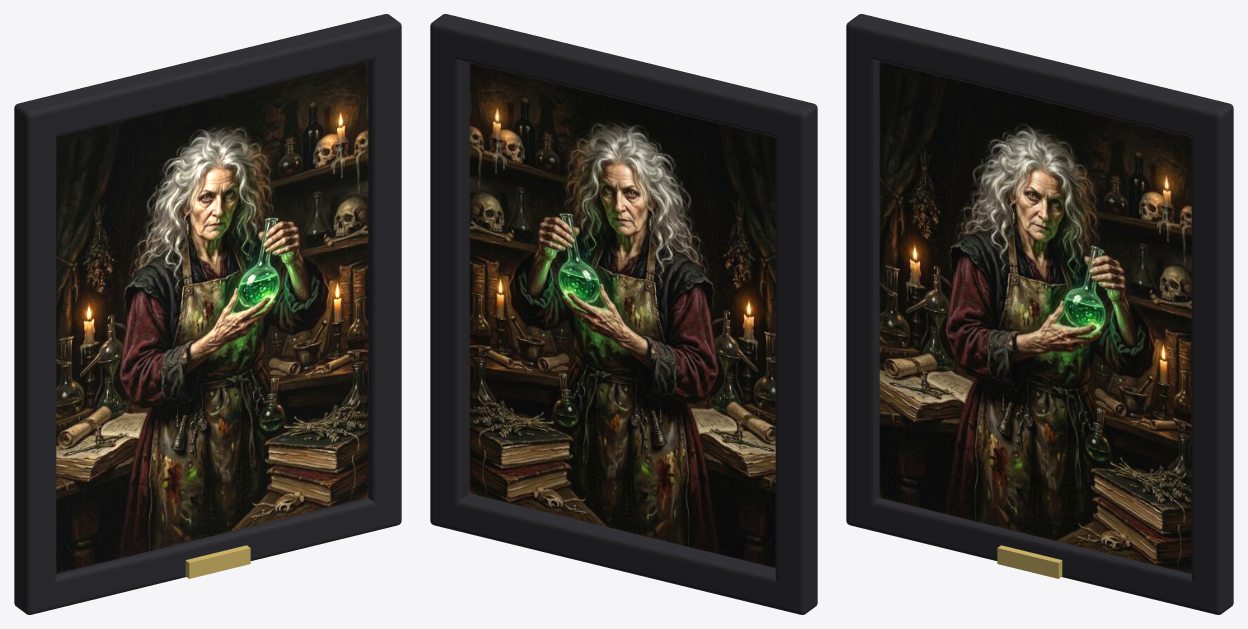
File: art_witch_alchemist.glb
3 renders of one model, left to right at view 1: azimuth 30°, elevation 25°; view 2: azimuth 150°, elevation 25°; view 3: azimuth 330°, elevation 25°, orthographic.
Parts seen in each view (by area): view 1: GD_art_witch_alchemist__m0, GD_art_witch_alchemist__m1, GD_art_witch_alchemist__m2; view 2: GD_art_witch_alchemist__m0, GD_art_witch_alchemist__m1; view 3: GD_art_witch_alchemist__m0, GD_art_witch_alchemist__m1, GD_art_witch_alchemist__m2.
Part boxes in pixels (x1,y1,x2,y2): GD_art_witch_alchemist__m0: (56, 61, 368, 573); GD_art_witch_alchemist__m1: (14, 14, 401, 614); GD_art_witch_alchemist__m2: (185, 545, 250, 578); GD_art_witch_alchemist__m0: (469, 63, 775, 567); GD_art_witch_alchemist__m1: (430, 14, 817, 614); GD_art_witch_alchemist__m0: (879, 61, 1191, 573); GD_art_witch_alchemist__m1: (846, 14, 1233, 614); GD_art_witch_alchemist__m2: (997, 545, 1062, 578).
Bounding box in the file's own units: 0.86 × 1.1 × 0.0775.
Materials: 3 (1 with a texture image).
